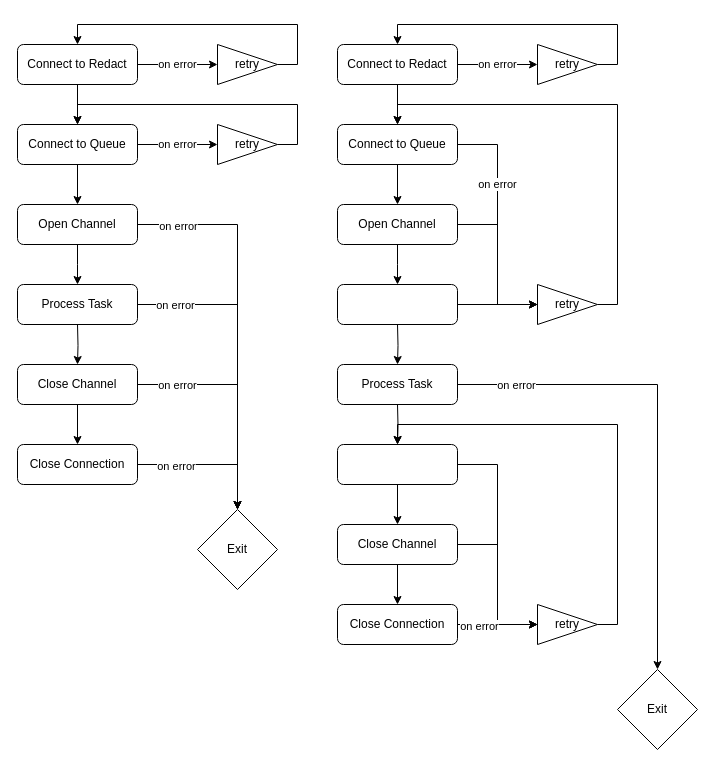
Some shapes in this 715 by 767 pixel diagram are drawn without their labels. The shapes that lost their labels are listed below. From the top down, each one's centre as x and y in pixels, then its label:
pixel 397 304: Read Message from Queue
pixel 397 464: Ack / Nack Message
